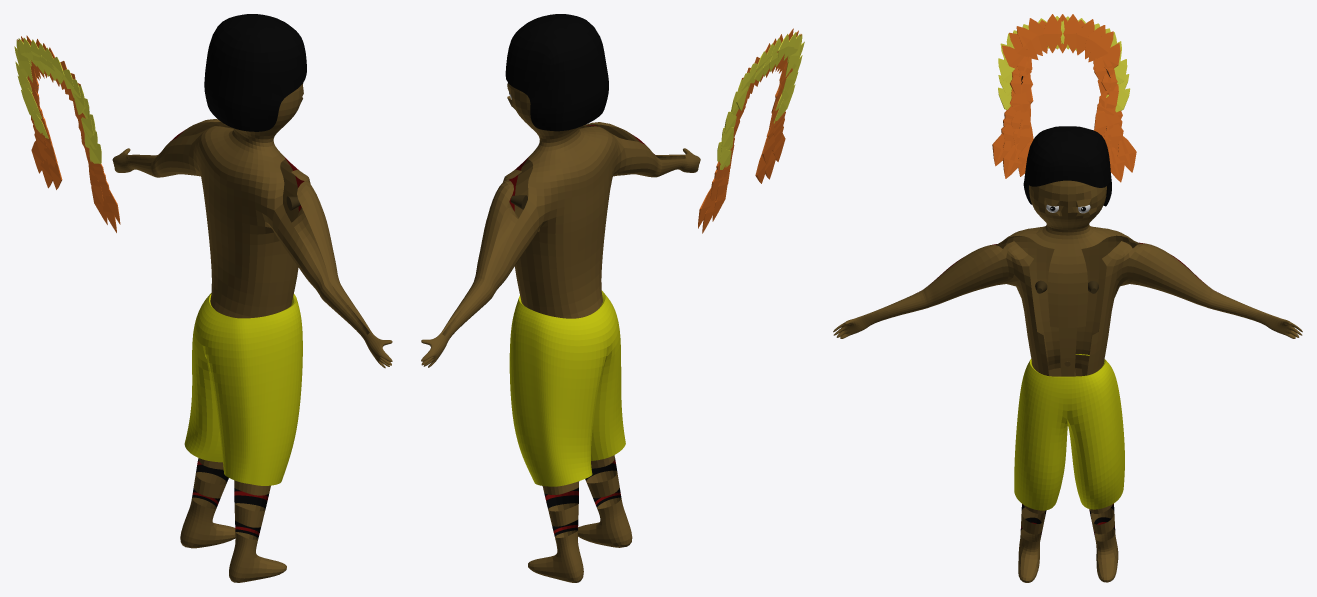
The model's file is menoari.fbx.
The picture shows the model from 3 angles, left to right: view 1: azimuth 30°, elevation 25°; view 2: azimuth 150°, elevation 25°; view 3: azimuth 270°, elevation 25°; orthographic projection. The views are drawn at different scales.
Visible parts, largest first — view 1: Circle, Short, cab, cocar; view 2: Circle, Short, cab, cocar; view 3: Circle, Short, cocar, cab.
Boxes of the visible parts, x1,y1,x2,y2 form: Circle: (112, 83, 392, 582); Short: (184, 293, 302, 485); cab: (204, 14, 306, 131); cocar: (14, 35, 120, 232); Circle: (421, 83, 700, 582); Short: (509, 290, 625, 486); cab: (505, 14, 608, 131); cocar: (698, 28, 804, 233); Circle: (833, 180, 1302, 582); Short: (1014, 354, 1124, 510); cocar: (992, 14, 1136, 182); cab: (1023, 126, 1111, 206).
Size of the model in its own units: 88.01 by 185 by 164.
